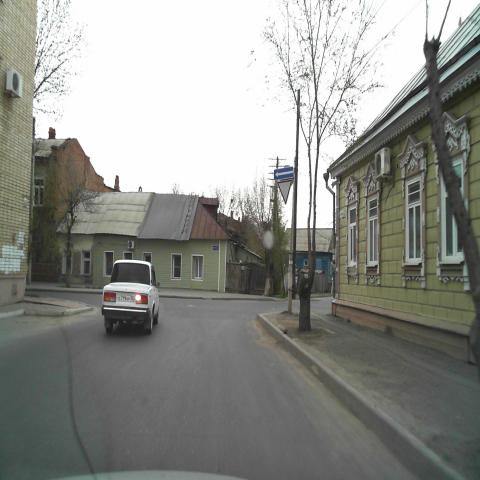5_7_2: (274, 165, 294, 179)
